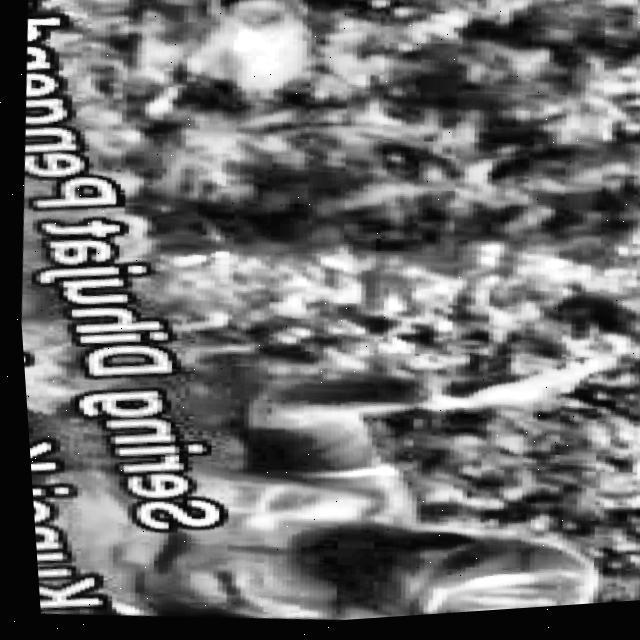Lori: (18, 308, 640, 640)
